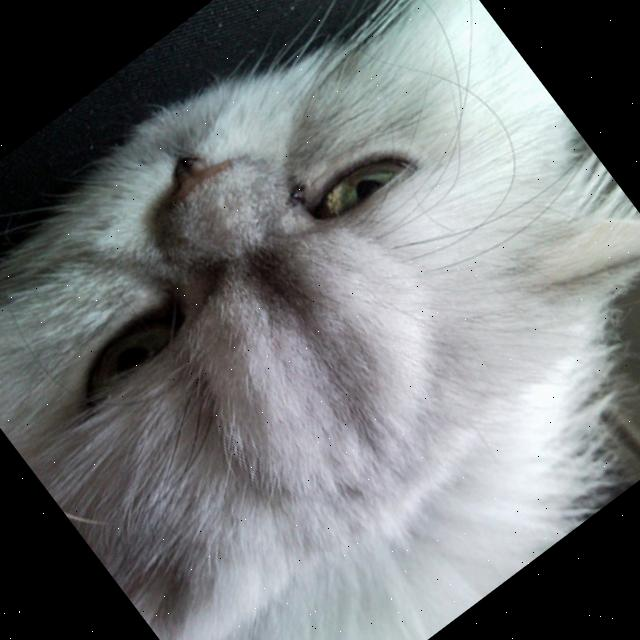cat-eye: (284, 94, 456, 248)
cat-eye-normal: (17, 245, 228, 440)
